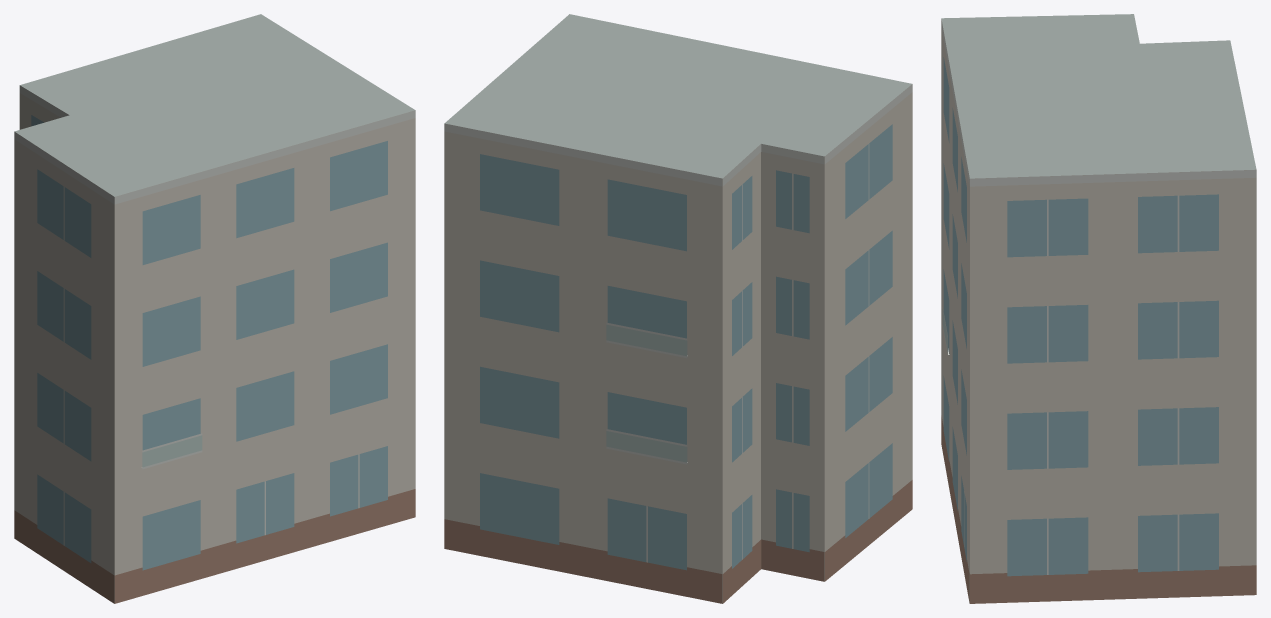
The model's file is survey-upis-32620005.glb.
3 renders of one model, left to right at view 1: azimuth 30°, elevation 25°; view 2: azimuth 150°, elevation 25°; view 3: azimuth 270°, elevation 25°, orthographic. The views are drawn at different scales.
Parts seen in each view (by area): view 1: survey-upis-32620005.tmp; view 2: survey-upis-32620005.tmp; view 3: survey-upis-32620005.tmp.
Part boxes in pixels (box(x1,y1,x2,y2)): survey-upis-32620005.tmp: box(14, 14, 415, 603); survey-upis-32620005.tmp: box(444, 14, 912, 603); survey-upis-32620005.tmp: box(941, 14, 1256, 603).
Bounding box in the file's own units: 10.72 × 12.9 × 8.68.
